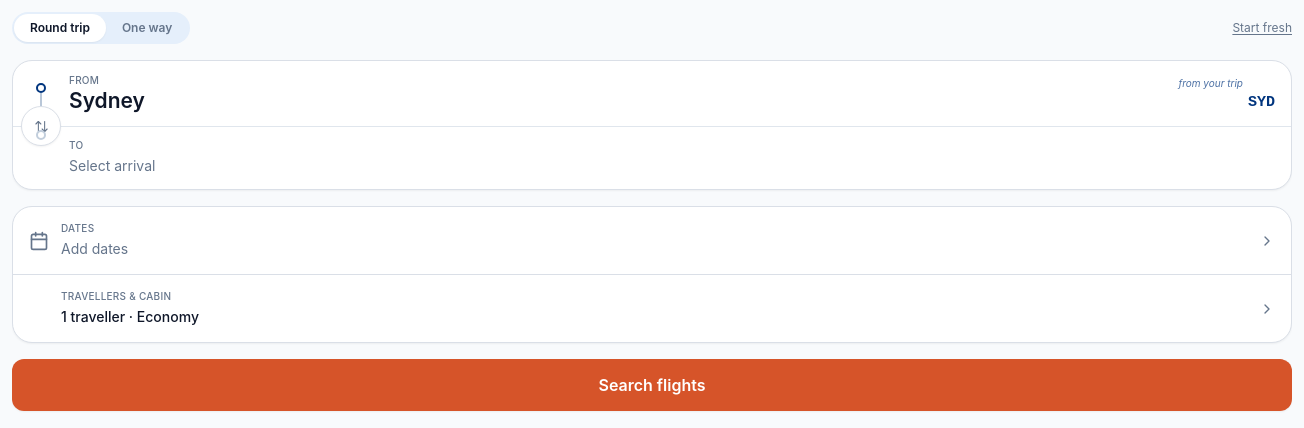
Test: MobileFlightSearch â€” Start fresh › Start fresh clears form values but preserves TripContext
Click the button "Start fresh" at (1262, 28), box [1232,20,1292,36]
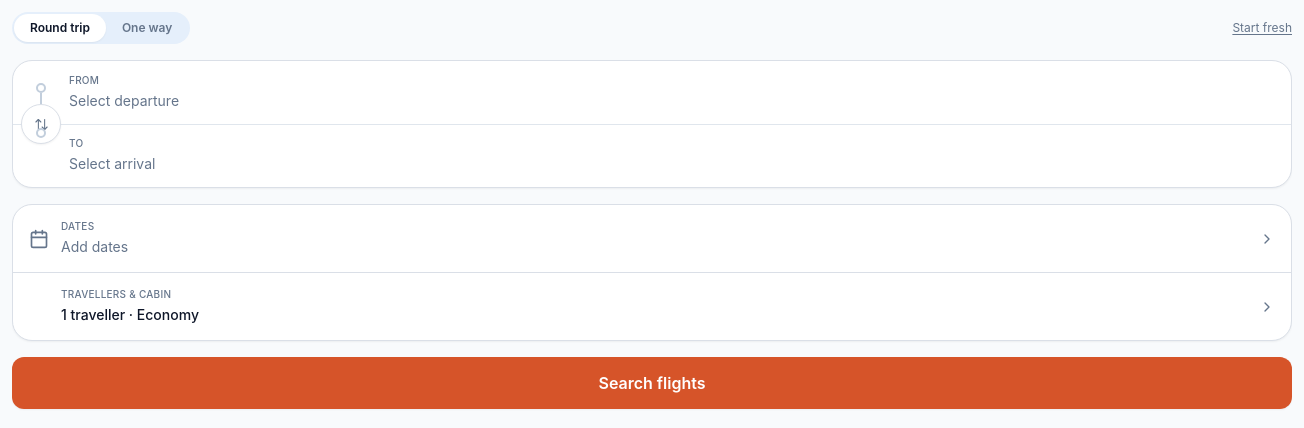
Now the text "Sydney" is gone
Now the text "Syd" is gone
